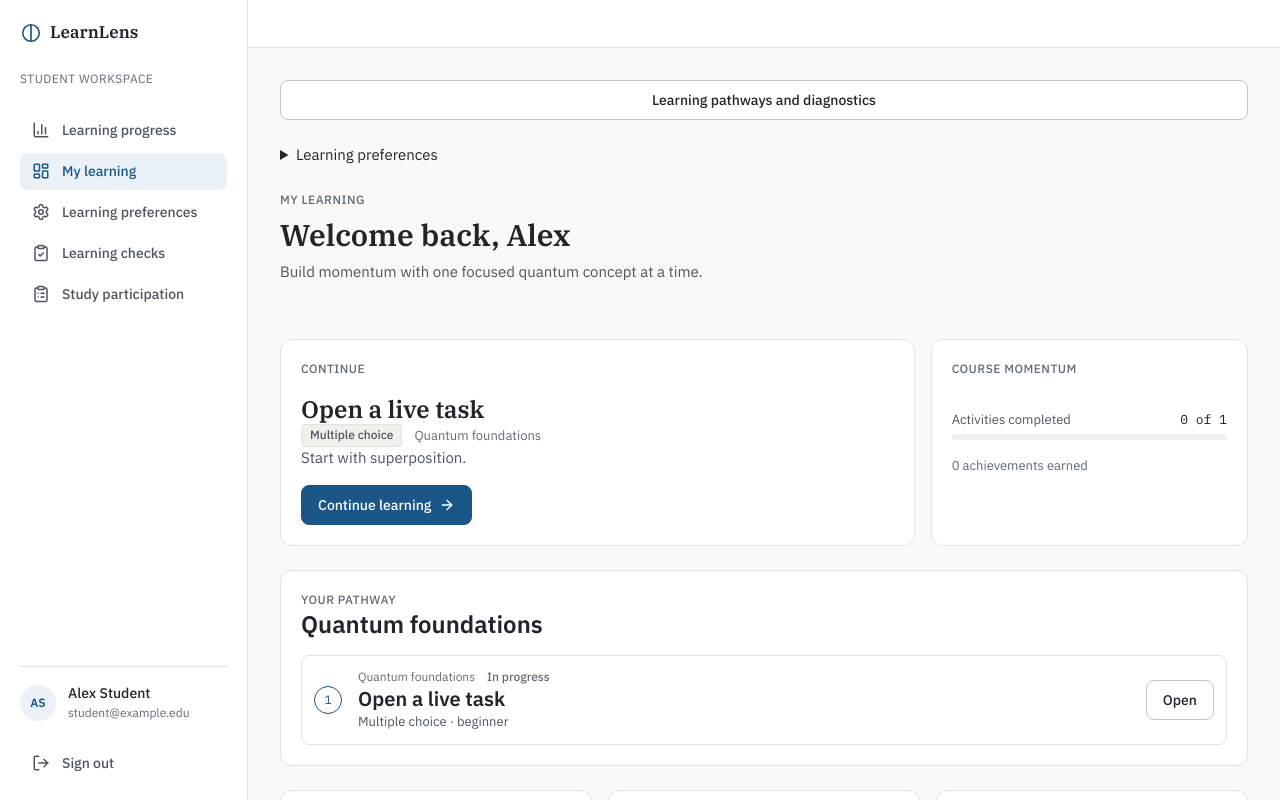
Scenario: shows a retryable error when the live task cannot be opened
Click the button with aria-label "Open Open a live task" at (1180, 700), box [1146, 680, 1214, 720]
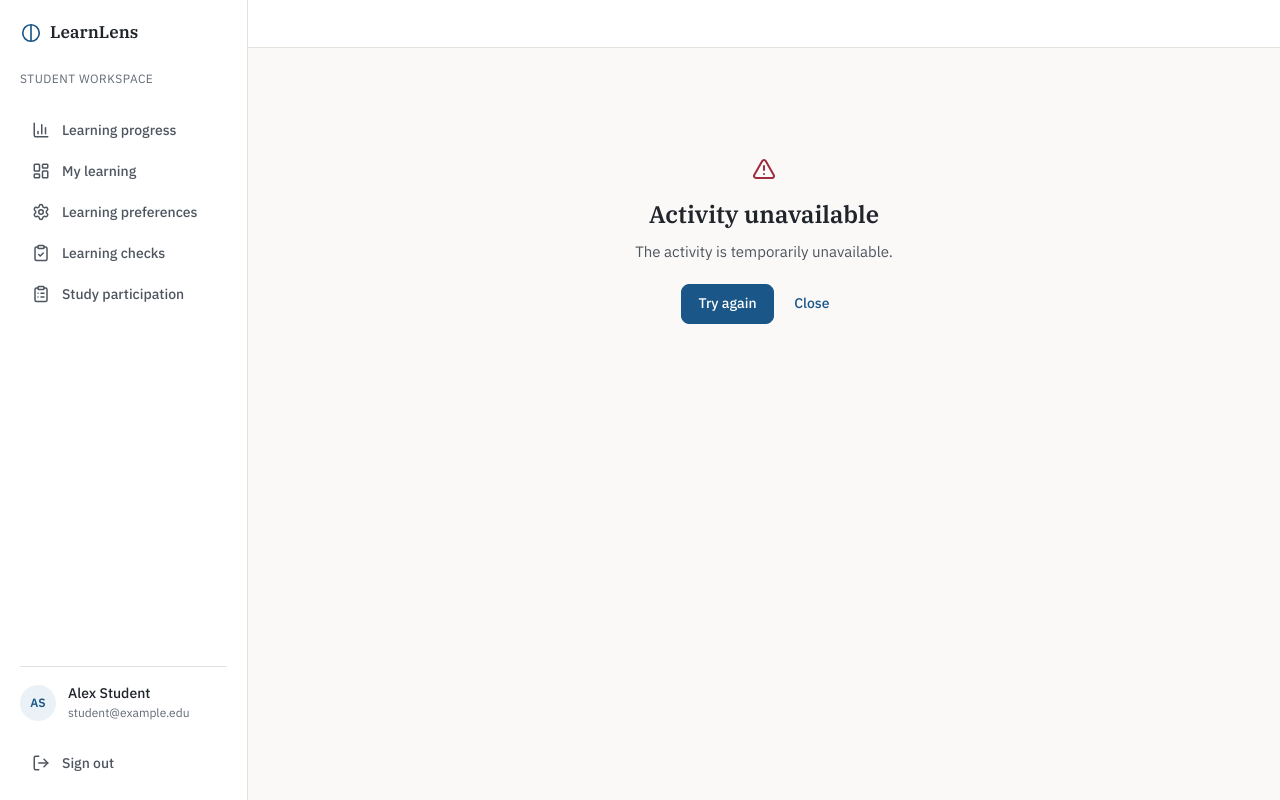
Expected: the heading "Activity unavailable" is shown, [649, 199, 879, 229]
Expected: the text "The activity is temporarily unavailable." is shown, [635, 241, 893, 264]
Expected: the button "Try again" is enabled, [681, 284, 774, 324]
